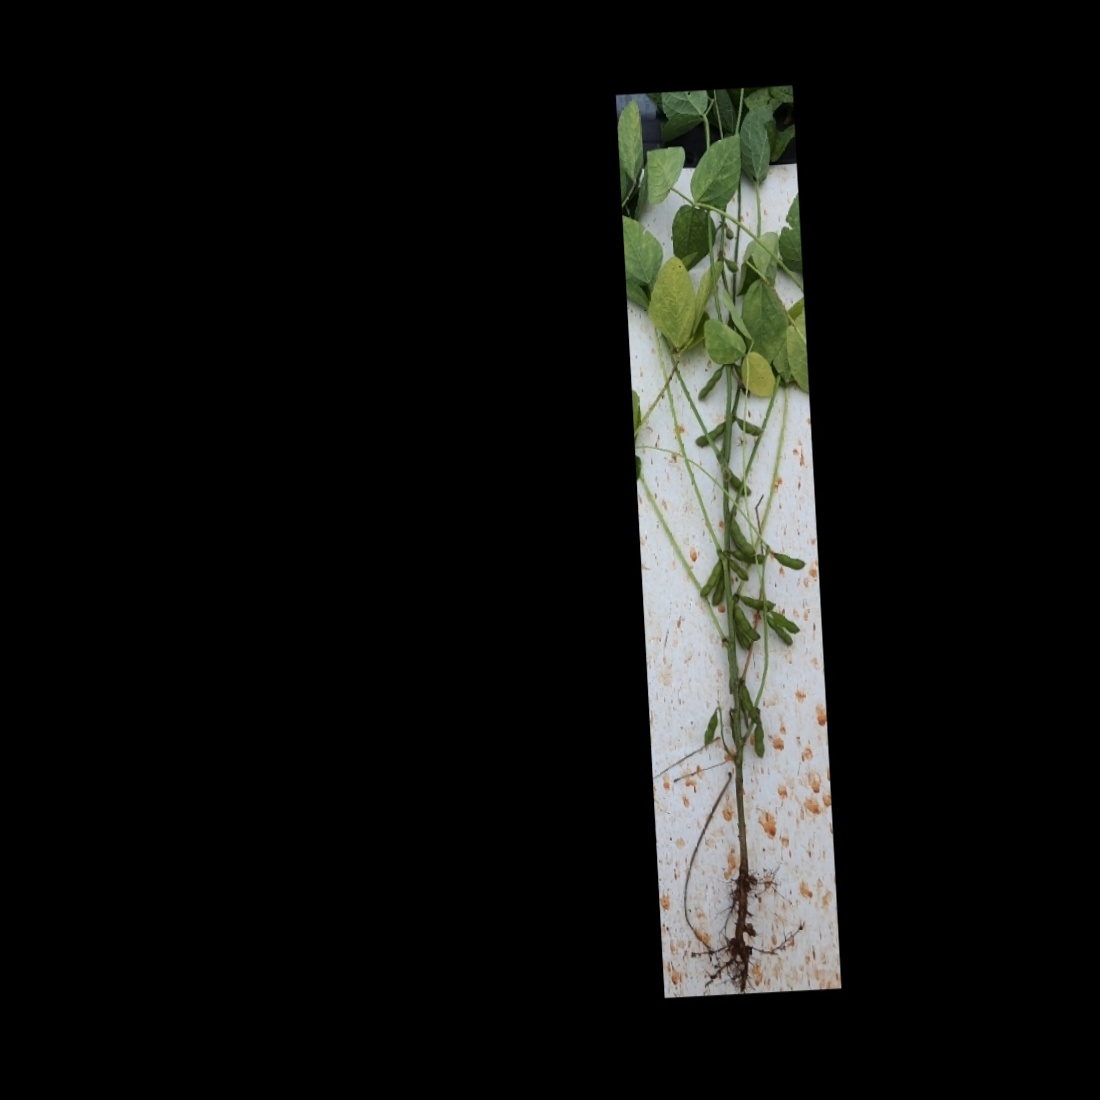pod: (693, 365, 726, 400), (768, 544, 806, 572), (740, 679, 763, 726), (736, 587, 776, 613), (700, 707, 722, 752), (693, 420, 730, 445), (725, 463, 752, 498), (734, 413, 766, 438), (751, 717, 767, 763), (727, 559, 752, 586), (709, 573, 728, 608)
soy: (633, 145, 827, 970)
